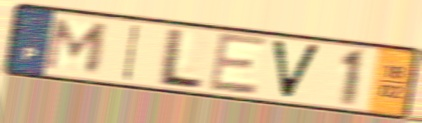1: (339, 46, 372, 111)
E: (206, 30, 270, 97)
I: (120, 22, 144, 83)
L: (153, 26, 208, 92)
M: (42, 16, 113, 76)
V: (268, 37, 325, 102)
